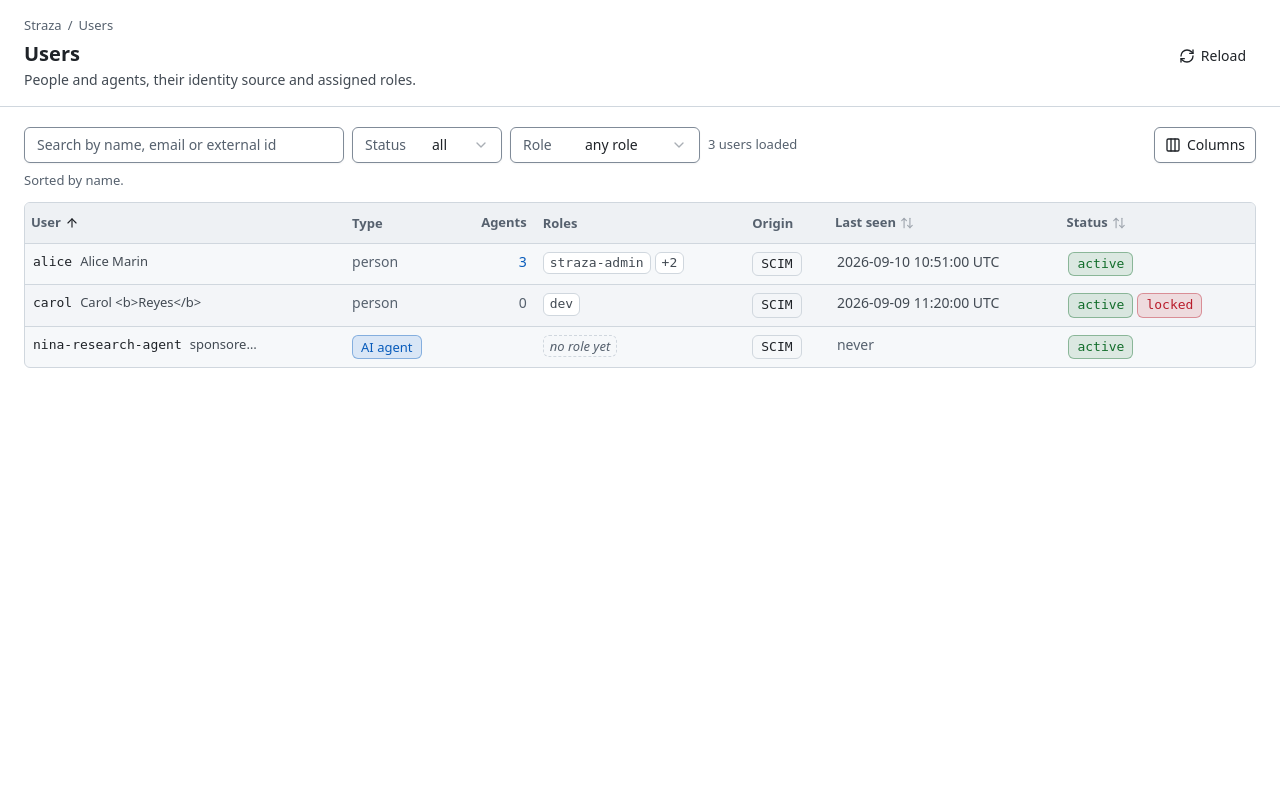
Test case: the Users screen › opens the user's sheet from a row and marks the open row
Click the button with aria-label "Open carol": (53, 303) [25, 285, 1255, 326]
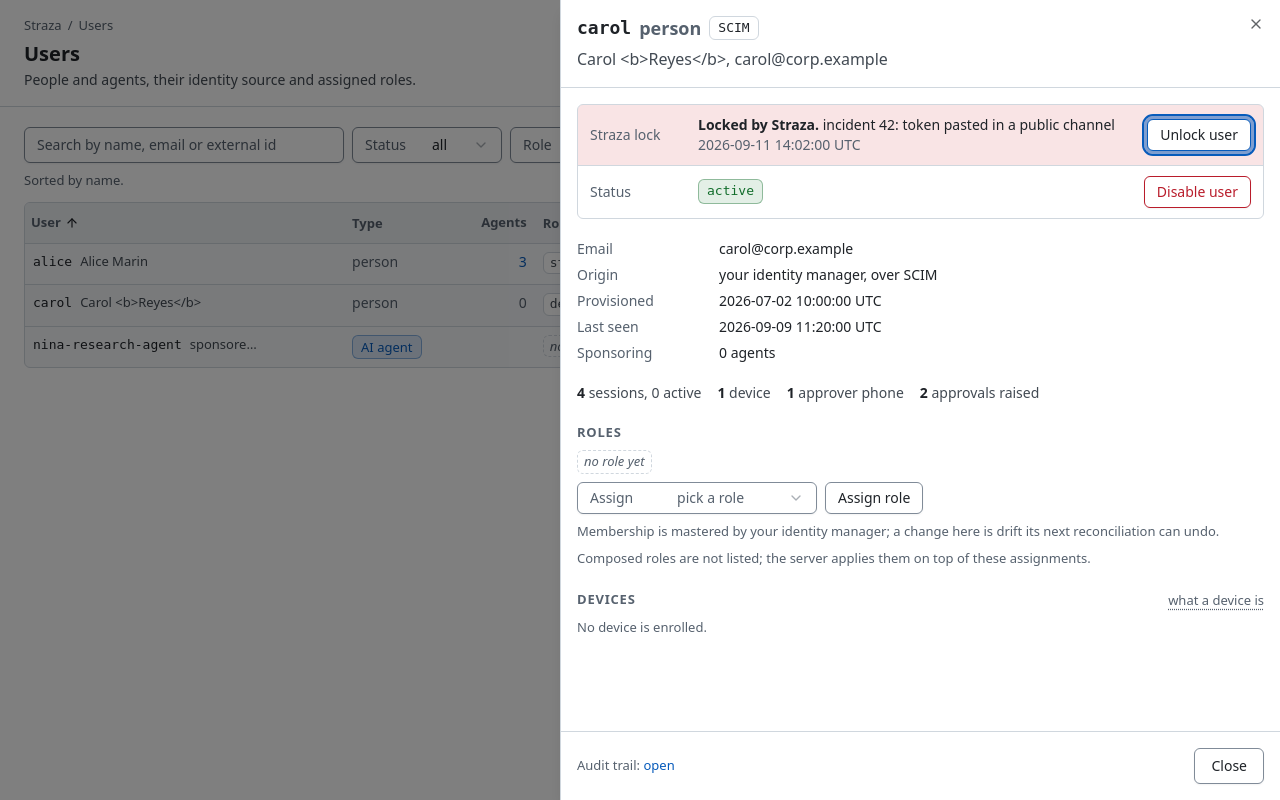
Check: the heading "carol person SCIM" is shown, box [577, 16, 759, 40]
